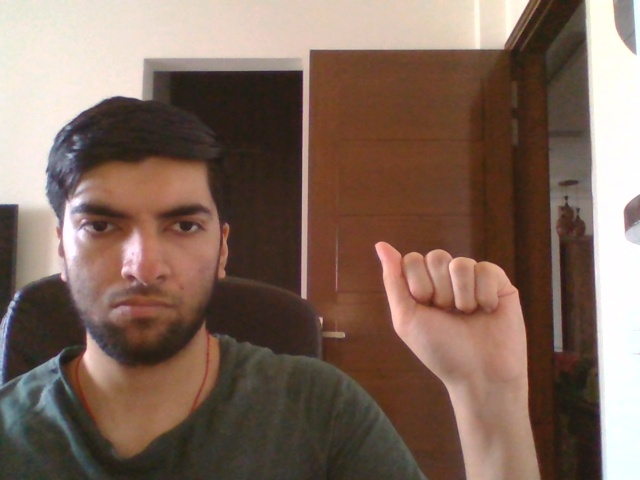LetterA: (374, 241, 530, 391)
